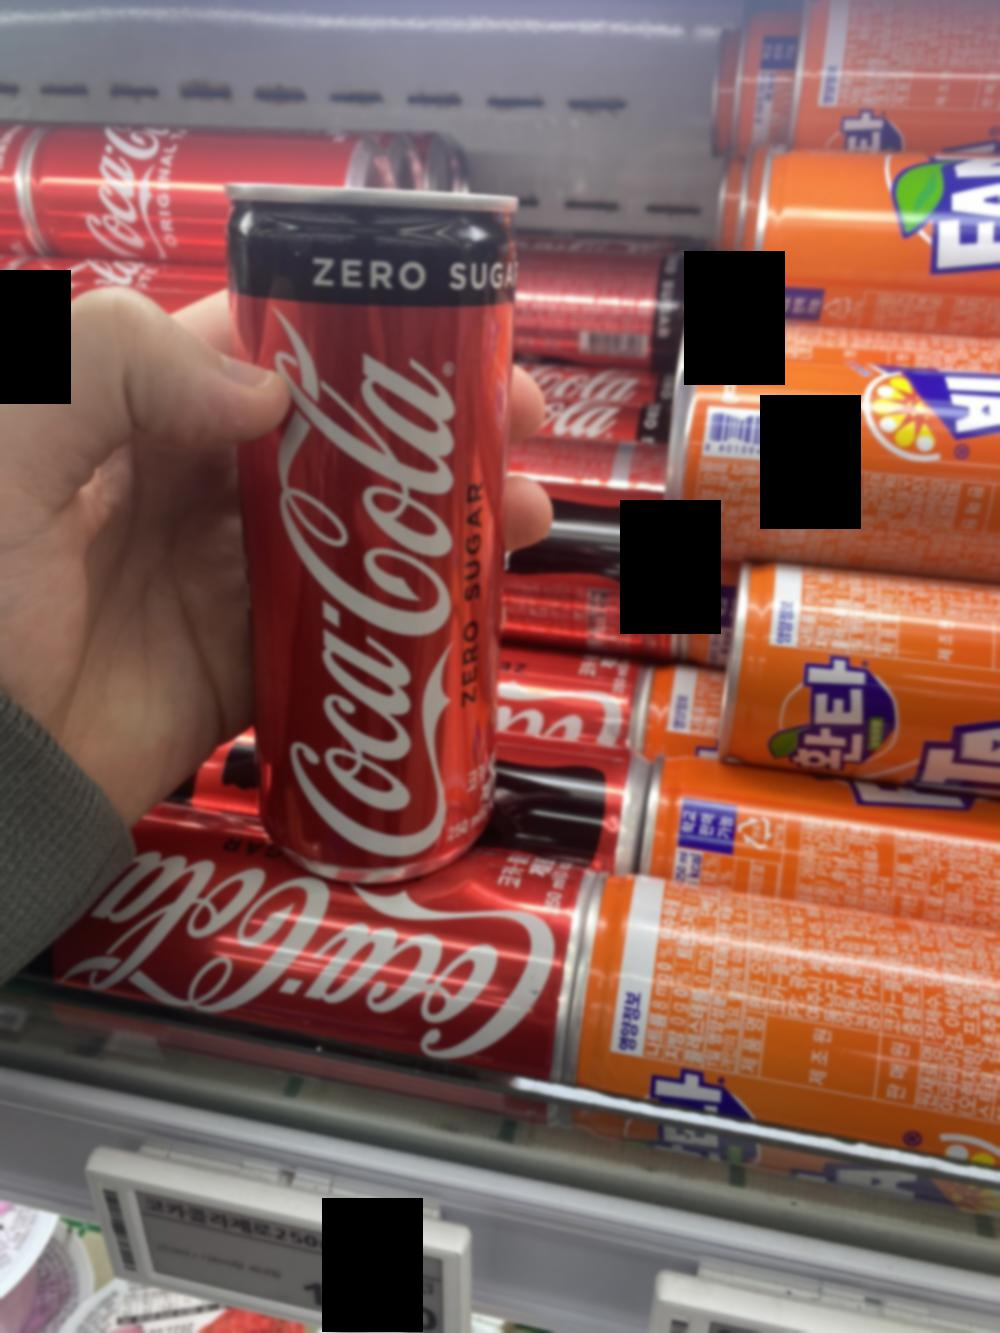cocacola_zero: (228, 181, 511, 878)
